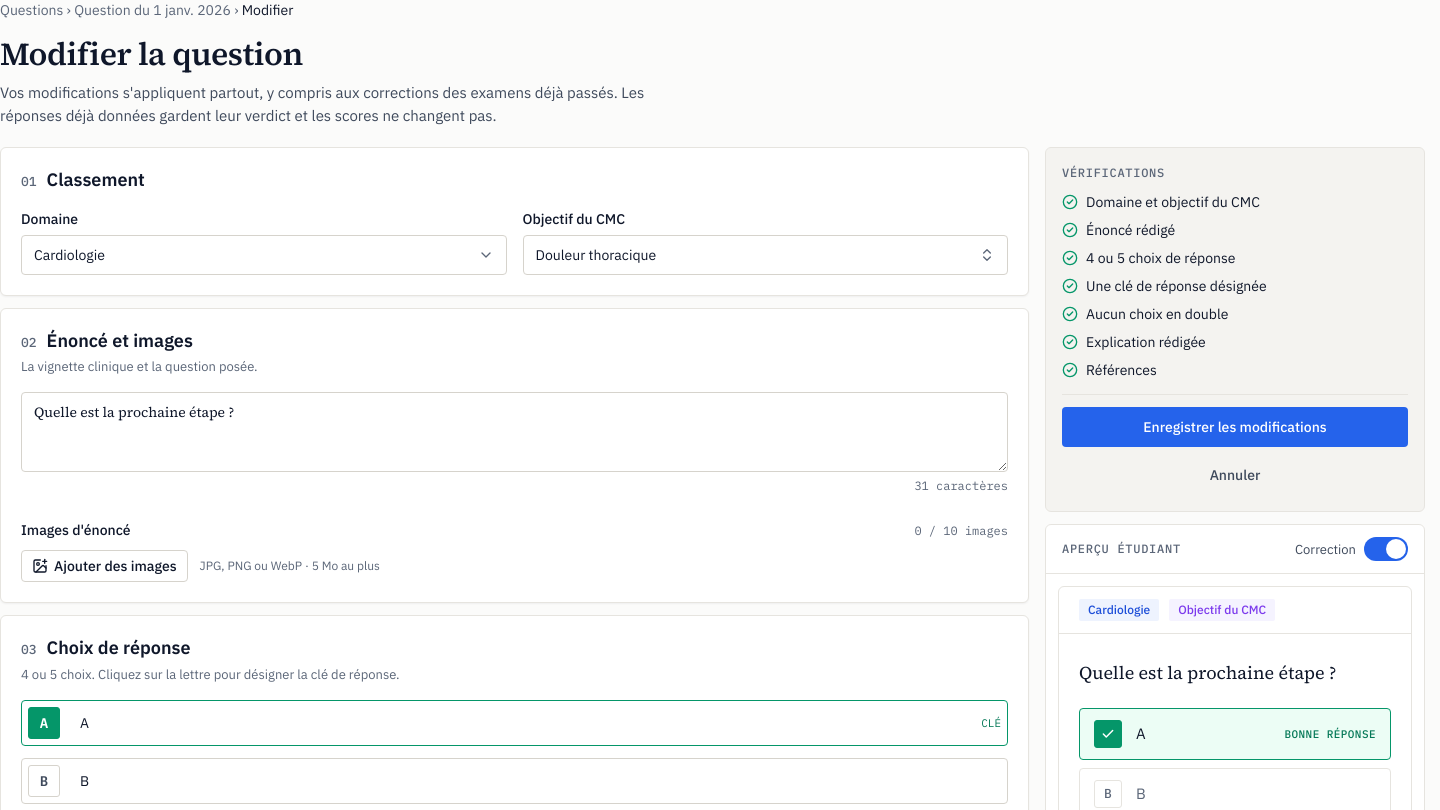
Test: QuestionForm — choix de réponse › désigner une autre lettre d'une question répondue annonce la clé corrigée
Click the button with test id "btn-key-1" at (44, 781), box [28,765,60,797]
(page scrolled)
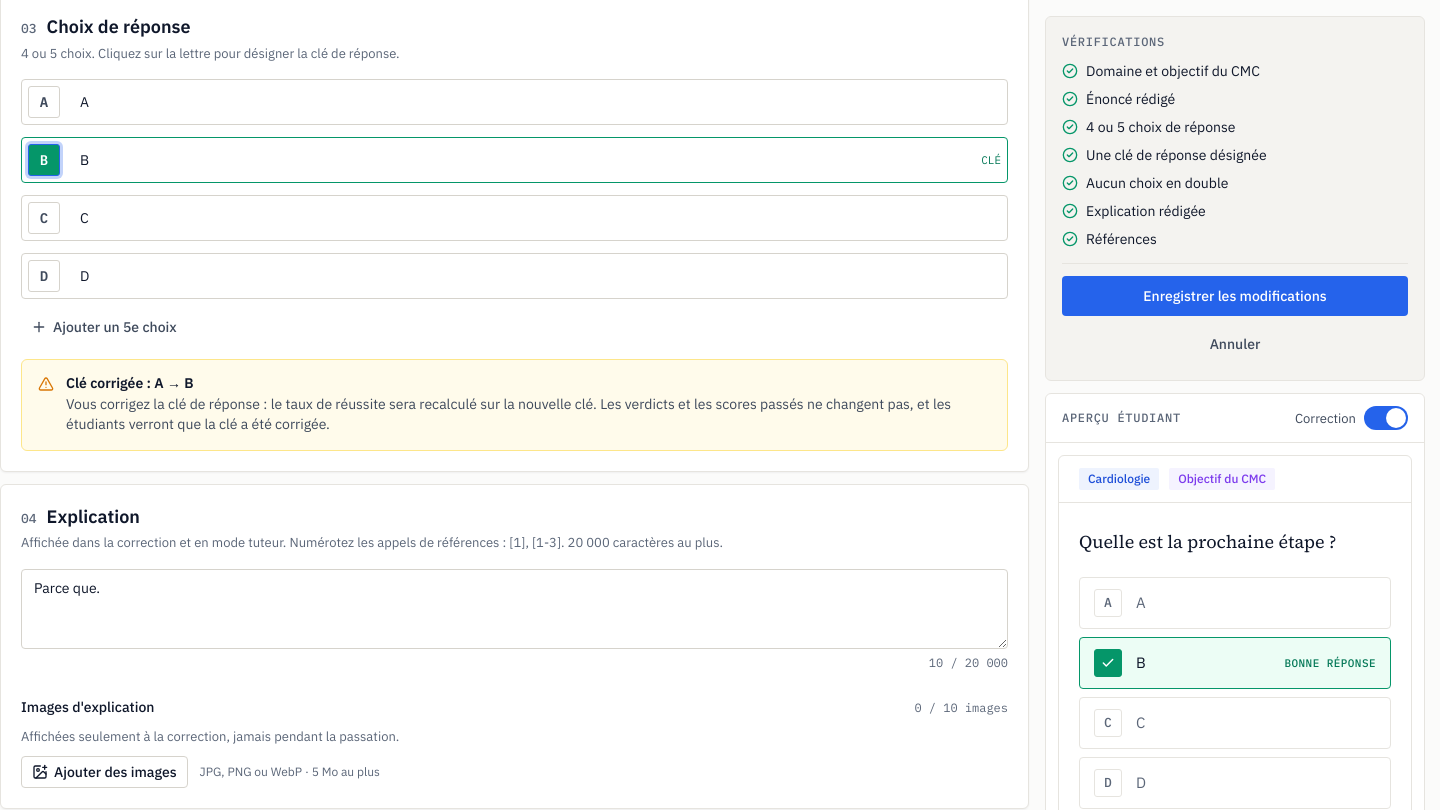
Now the message with test id "key-corrected" shows "Clé corrigée : A → B", box [21,359,1008,451]
